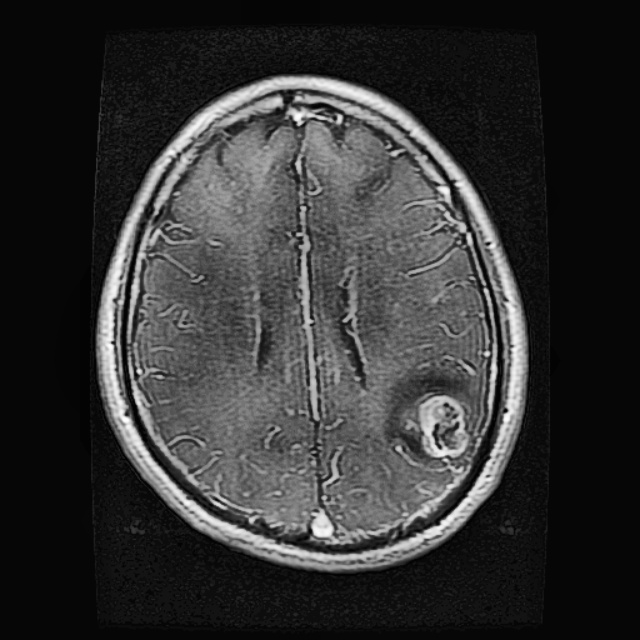Glioma: (389, 353, 483, 467)
